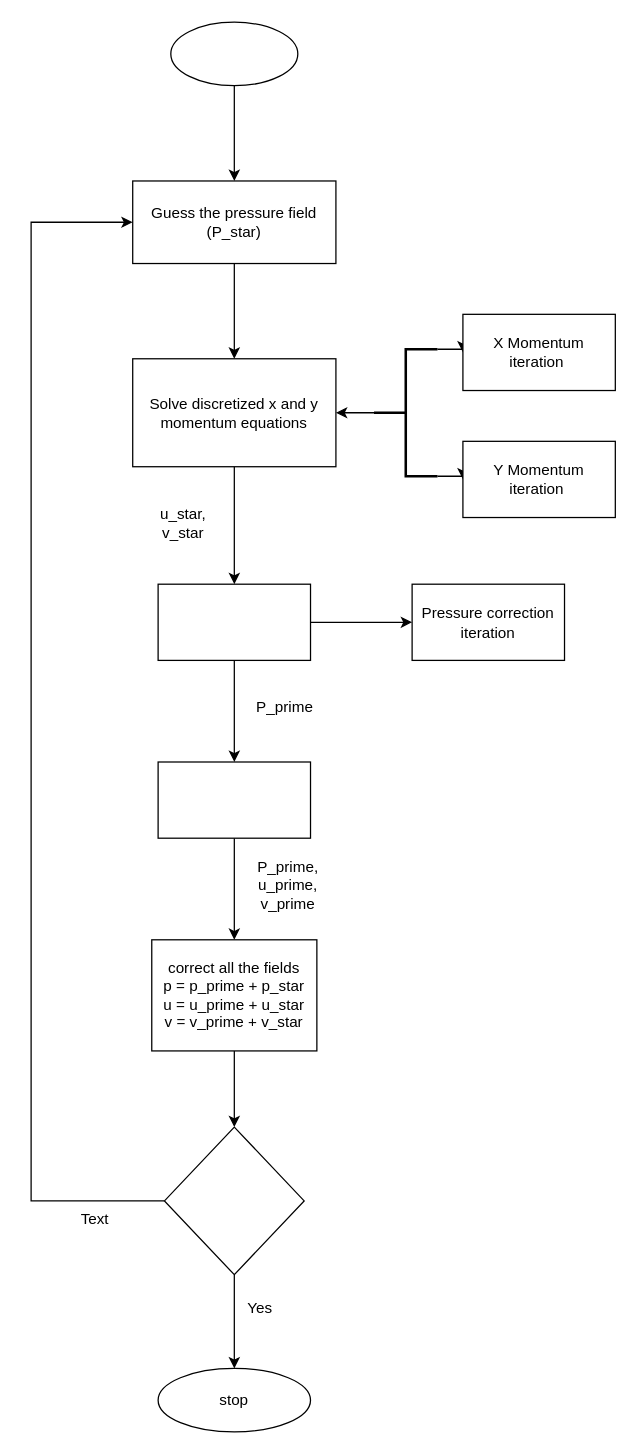
This 638x1454 diagram has some shape labels left out. The centre of each missing label's shape, as x and y in pixels:
"Compute corrected velocities (u_prime, v_prime)" goes at point (234, 799).
"is error<tolerance" goes at point (233, 1200).
"Solve discretized pressure equation" goes at point (234, 621).
"start" goes at point (234, 53).
